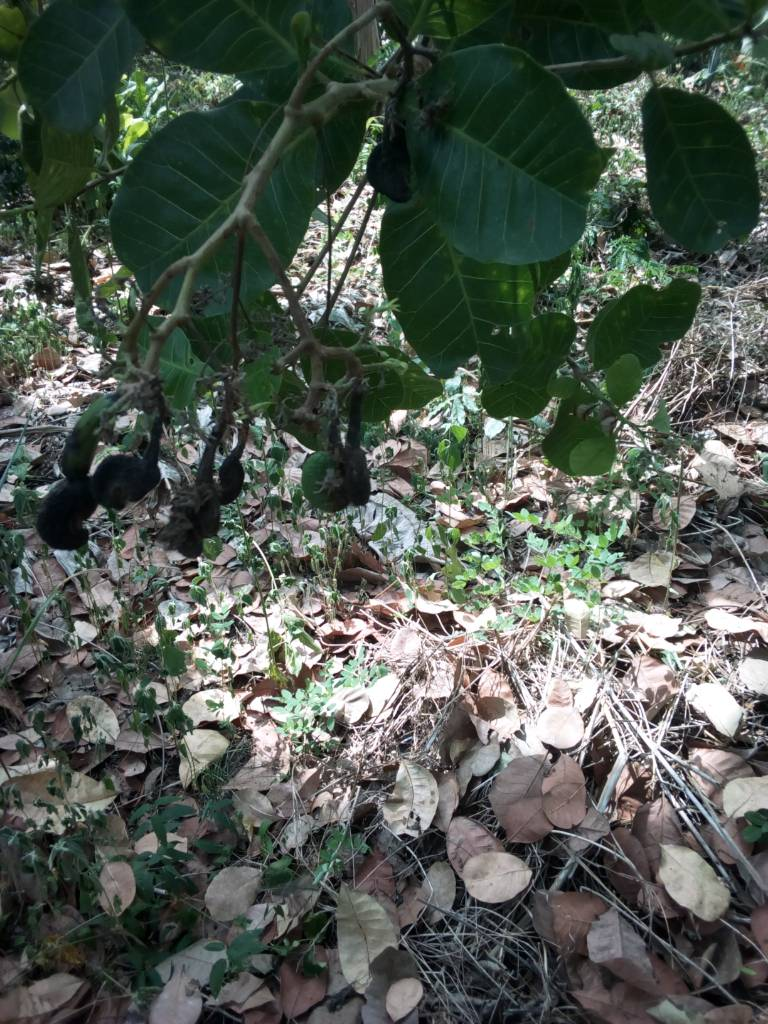Die-black: (164, 376, 250, 595), (89, 391, 171, 585), (33, 389, 105, 602), (319, 361, 393, 525)
